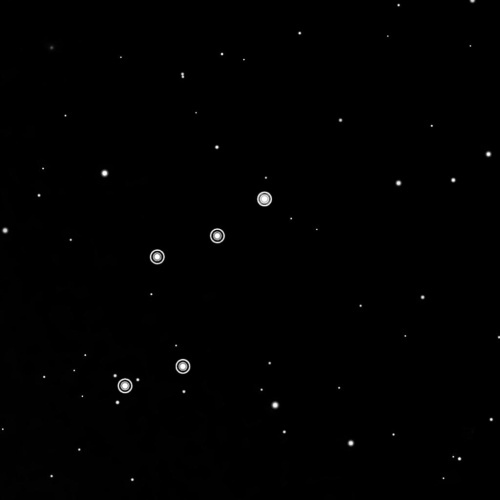lyra: (114, 186, 276, 397)
